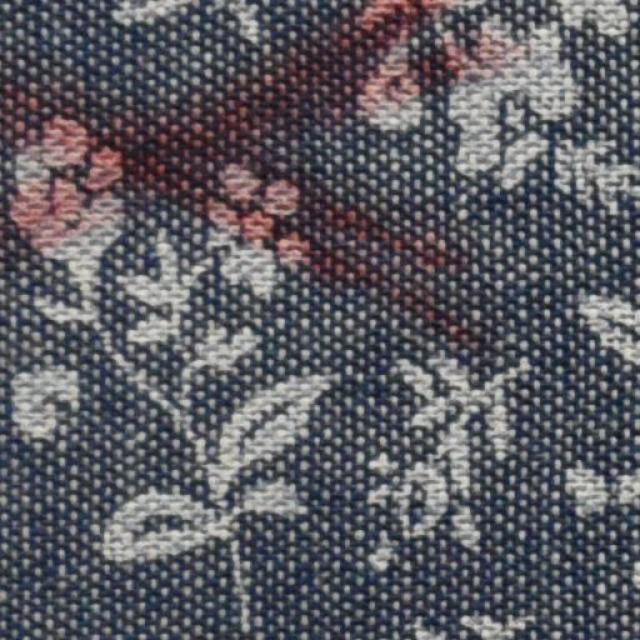Stain: (0, 0, 493, 362)
